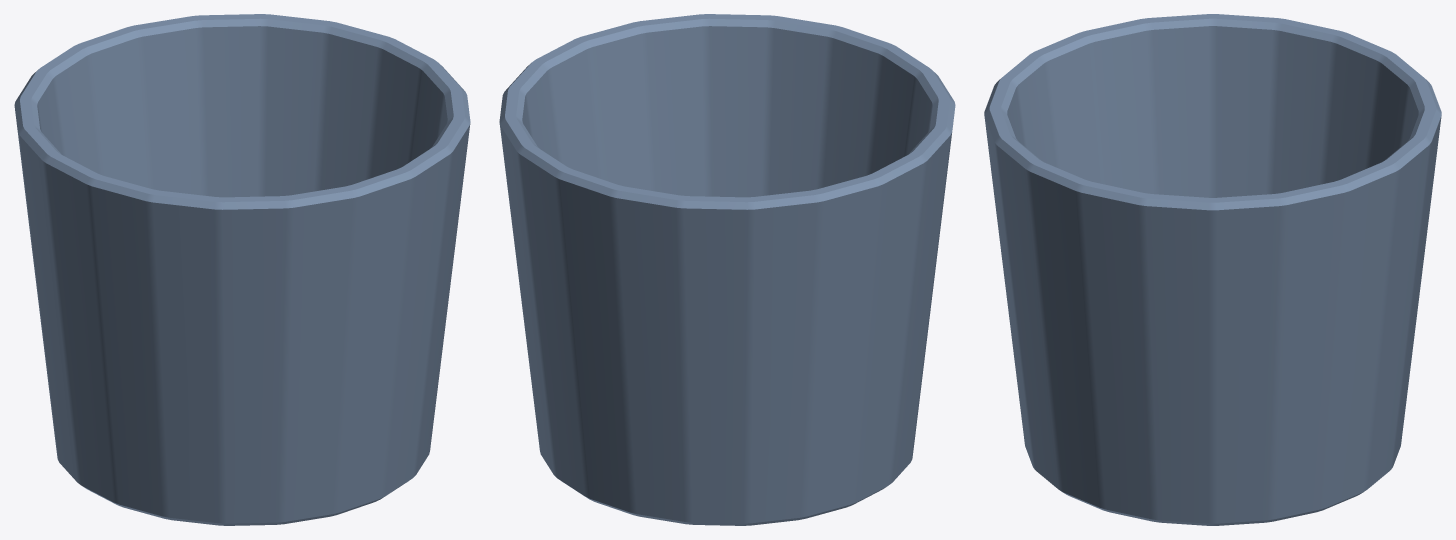
Rendered from cubo.fbx.
3 renders of one model, left to right at view 1: azimuth 30°, elevation 25°; view 2: azimuth 150°, elevation 25°; view 3: azimuth 270°, elevation 25°, orthographic.
Visible parts, largest first — view 1: cubo1; view 2: cubo1; view 3: cubo1.
Boxes of the visible parts, x1,y1,x2,y2 form: cubo1: (14, 14, 470, 525); cubo1: (499, 14, 955, 525); cubo1: (984, 14, 1441, 525).
Bounding box in the file's own units: 2.43 × 2 × 2.43.
